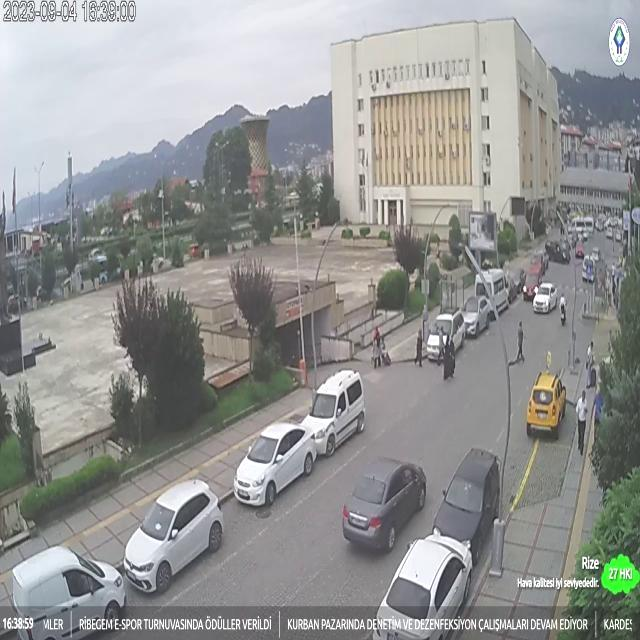Car: (123, 474, 223, 592), (372, 533, 474, 639), (10, 547, 125, 637), (341, 456, 425, 551), (431, 449, 501, 563), (232, 426, 318, 508), (526, 371, 566, 438), (426, 310, 466, 358), (460, 294, 491, 336), (532, 283, 560, 313), (582, 258, 596, 284), (590, 247, 600, 261), (606, 227, 614, 239), (615, 231, 623, 242)
Van: (299, 366, 365, 454), (475, 269, 509, 319), (522, 253, 549, 298), (572, 217, 594, 237)
